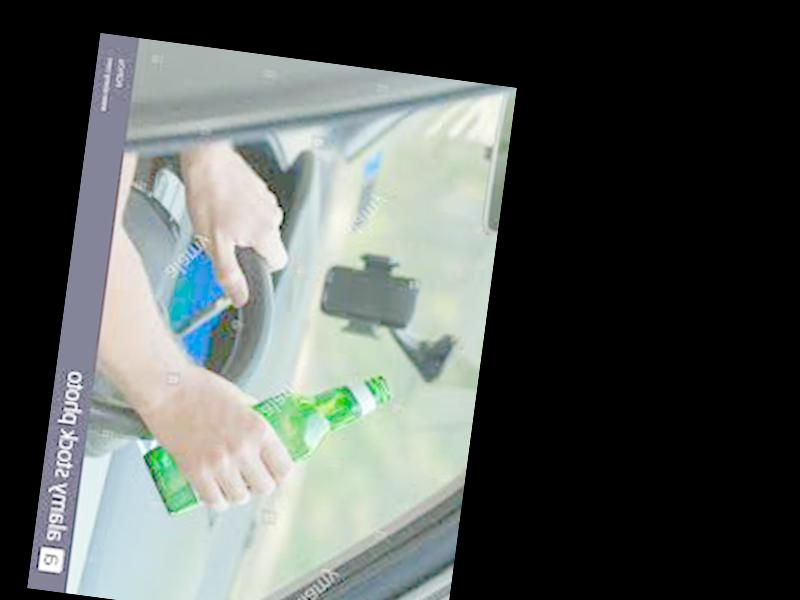Beer: (134, 348, 390, 535)
